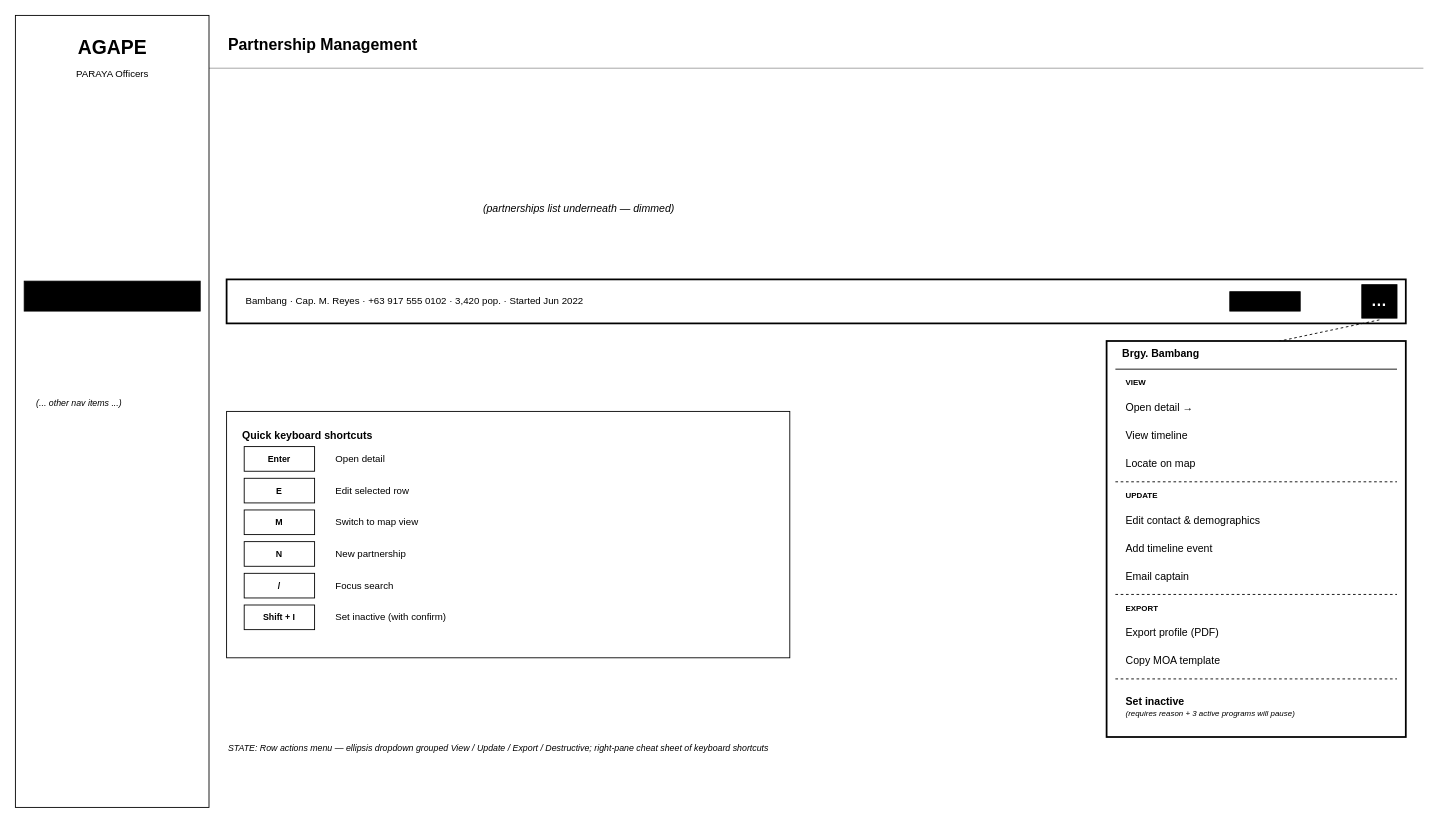
This 1440x823 diagram has some shape labels left out. Each missing label, with the centre of its shape:
"( active )" belongs at (1264,301).
"[x] Partnerships" belongs at (111,295).
